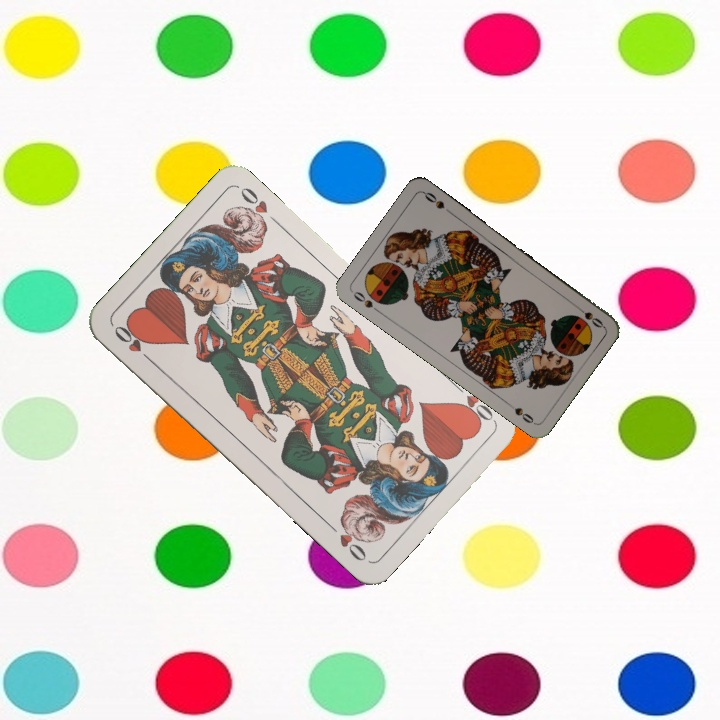HO: (450, 379, 498, 429), (110, 321, 157, 366)
SO: (571, 301, 606, 331), (349, 287, 383, 316)
